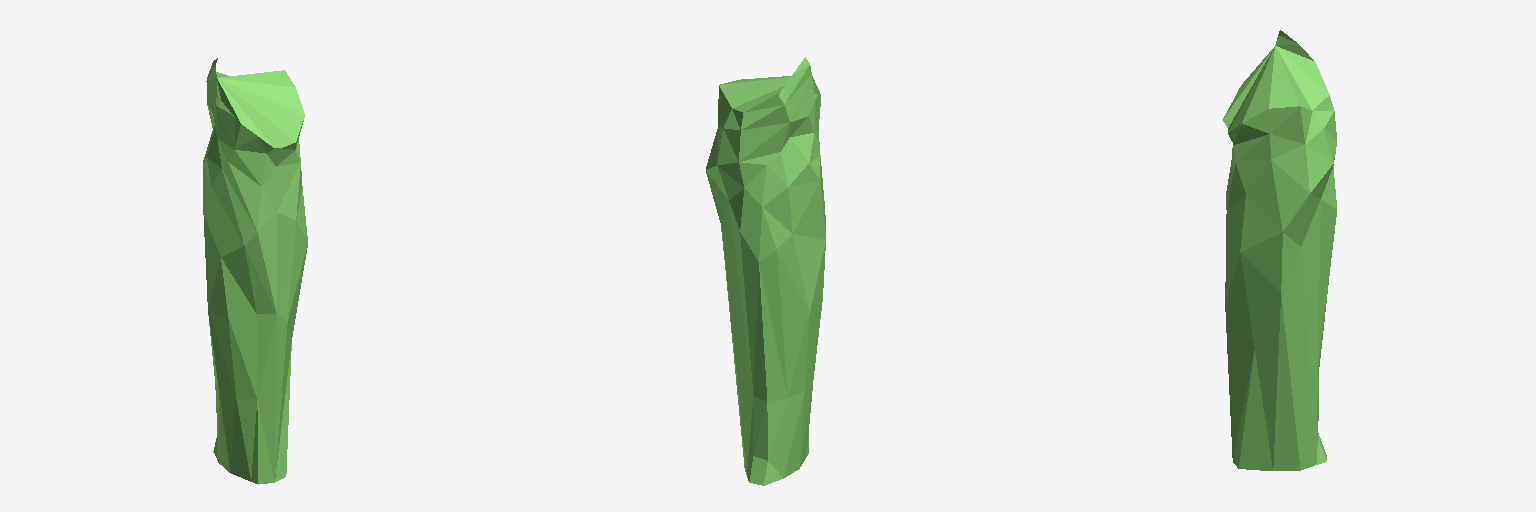
File: rightforearm.obj
The picture shows the model from 3 angles: view 1: azimuth 30°, elevation 25°; view 2: azimuth 150°, elevation 25°; view 3: azimuth 270°, elevation 25°; orthographic projection.
Visible parts, largest first — view 1: cube1_copy17; view 2: cube1_copy17; view 3: cube1_copy17.
Boxes of the visible parts, x1=… form: cube1_copy17: x1=203, y1=58, x2=307, y2=484; cube1_copy17: x1=706, y1=57, x2=825, y2=485; cube1_copy17: x1=1223, y1=30, x2=1336, y2=470.
Size of the model in its own units: 0.4759 by 1.95 by 0.4871.